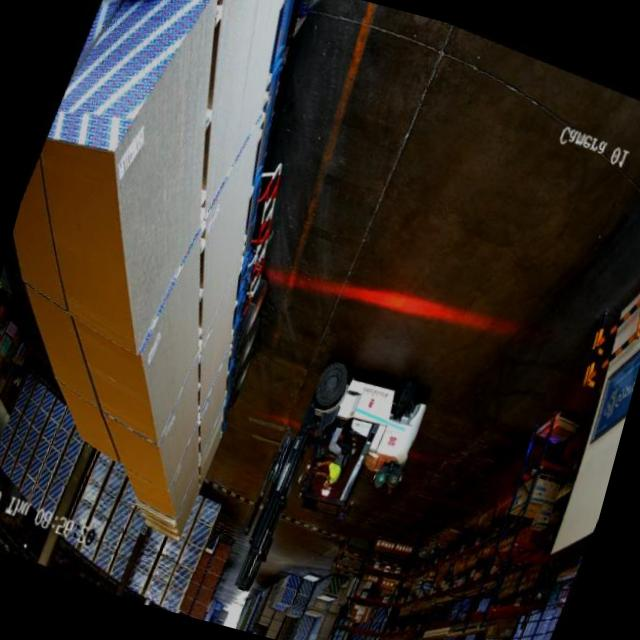driver: (302, 414, 364, 506)
forklift: (252, 331, 449, 554)
